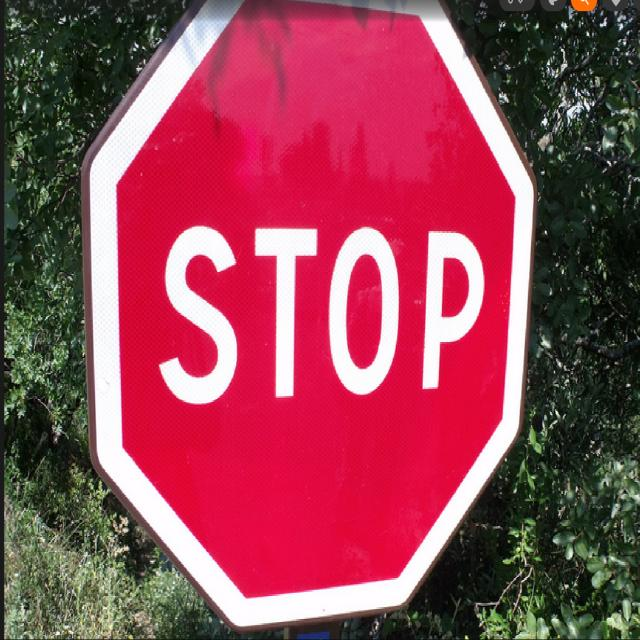STOP: (74, 0, 544, 624)
